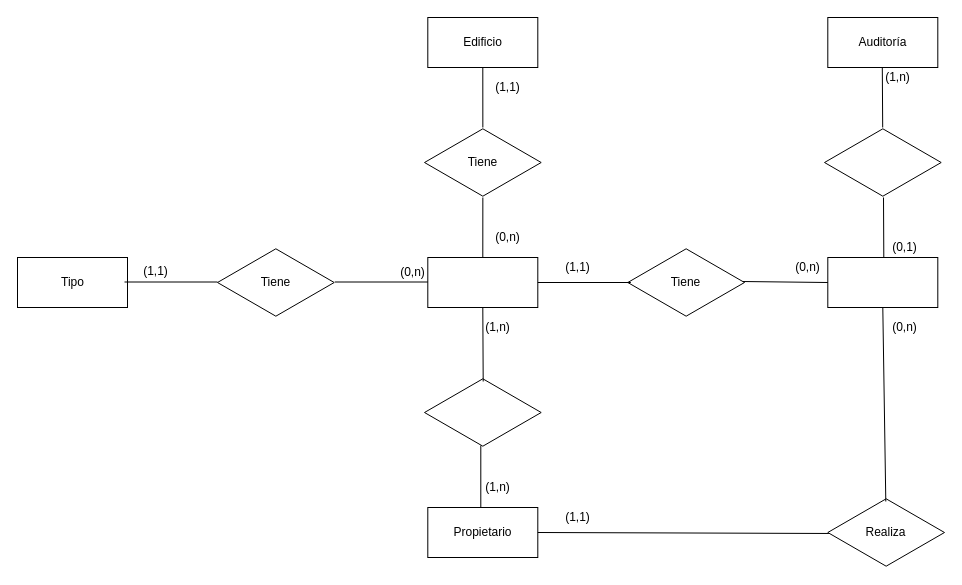
Image size: 962x585. Some labels were removed from this diagram. Here are the shapes that lost their labels. From the top down, the box of each, then its label:
(824, 126, 941, 198): Pertenece
(427, 256, 538, 308): Aulas
(827, 256, 938, 308): Reservas
(424, 376, 541, 448): Maneja
